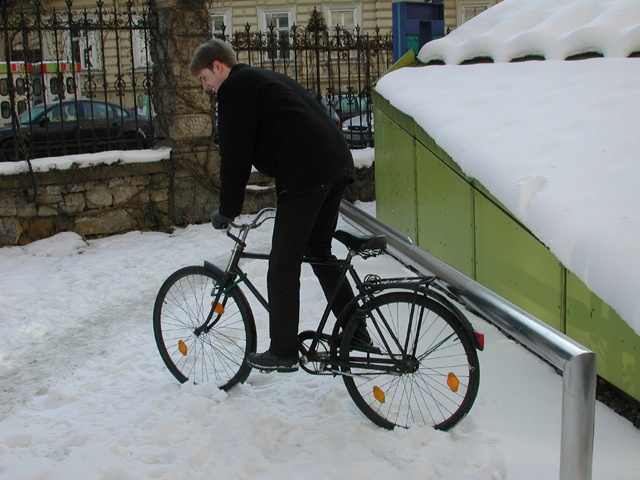person: (187, 38, 372, 379)
